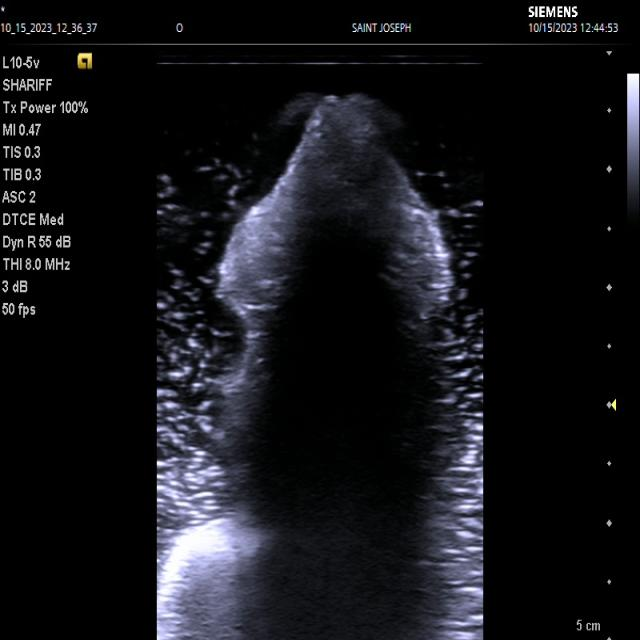tissue: (162, 94, 482, 640)
